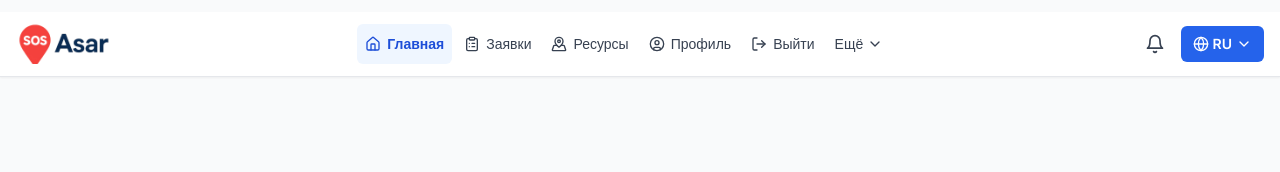
Test: places logout after the account link and signs out (admin=false)
This screenshot has width=1280, height=172.
Click the button "Выйти": (783, 44) [743,24,823,64]
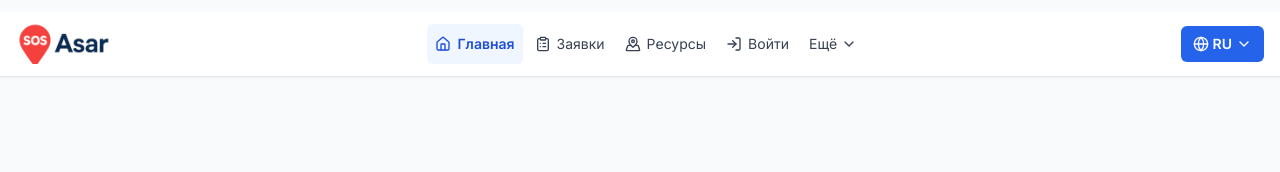
Check: the link "Войти" is shown, box [726,35,789,52]
